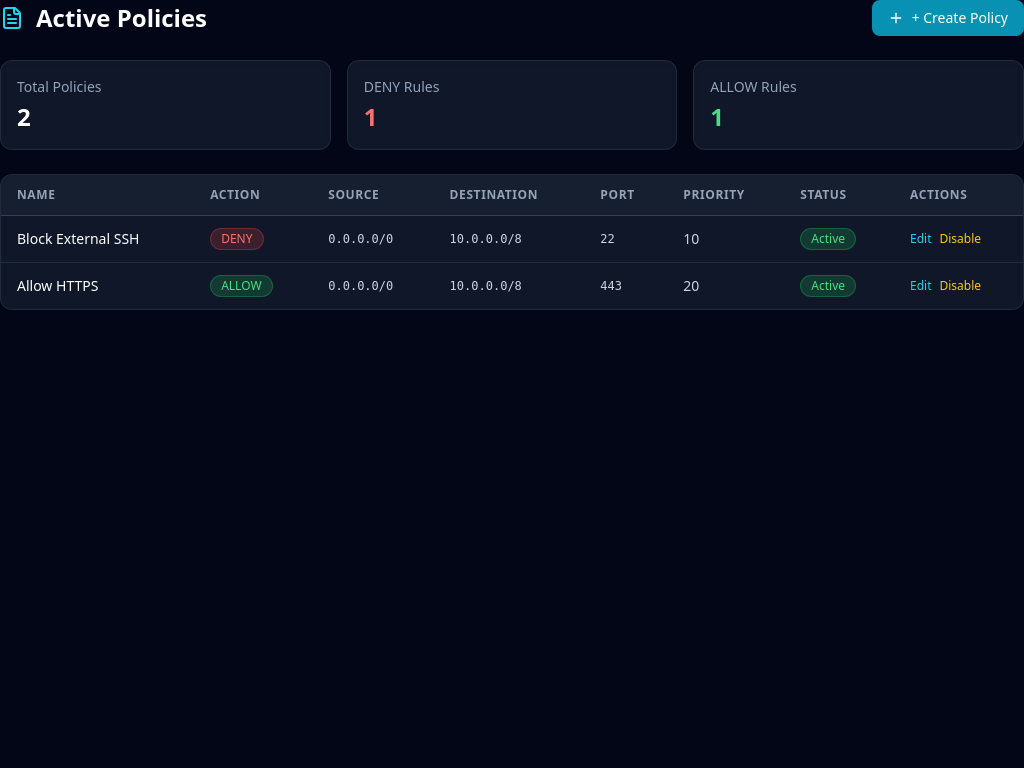
Policies › shows validation message when name is empty on submit
Check: the text "Block External SSH" is shown, box left=1, top=216, right=194, bottom=262
Click the button "+ Create Policy". click: (948, 18)
box: left=872, top=0, right=1023, bottom=36
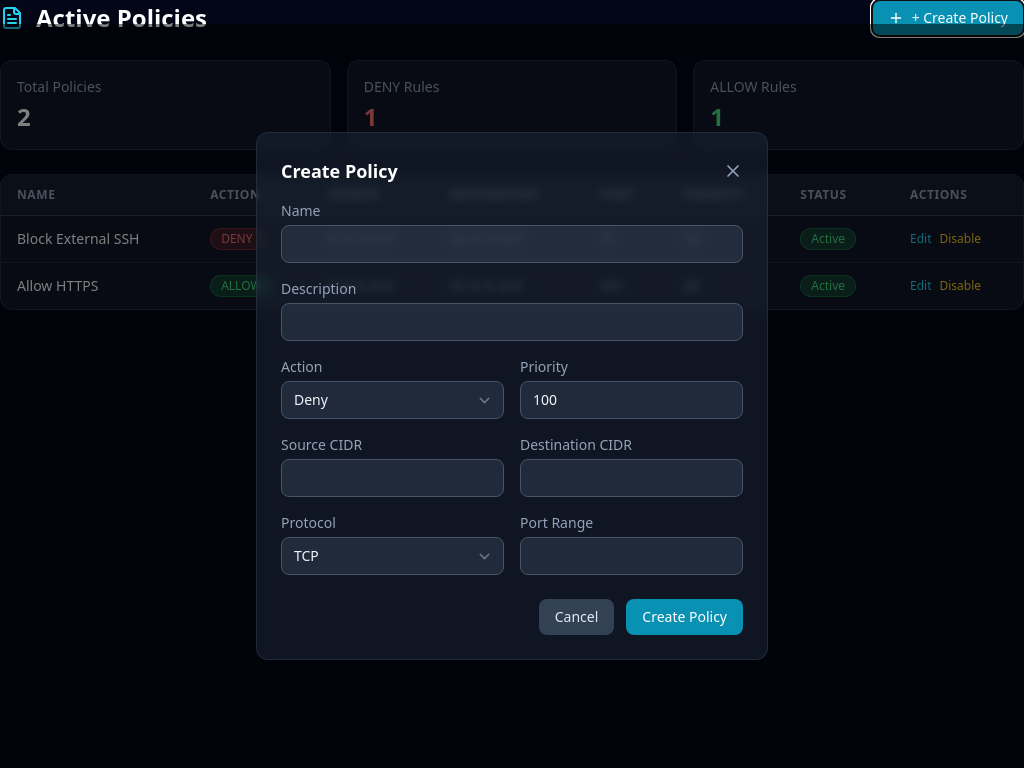
Click the button "Create Policy". click: (685, 617)
box: left=626, top=599, right=743, bottom=635
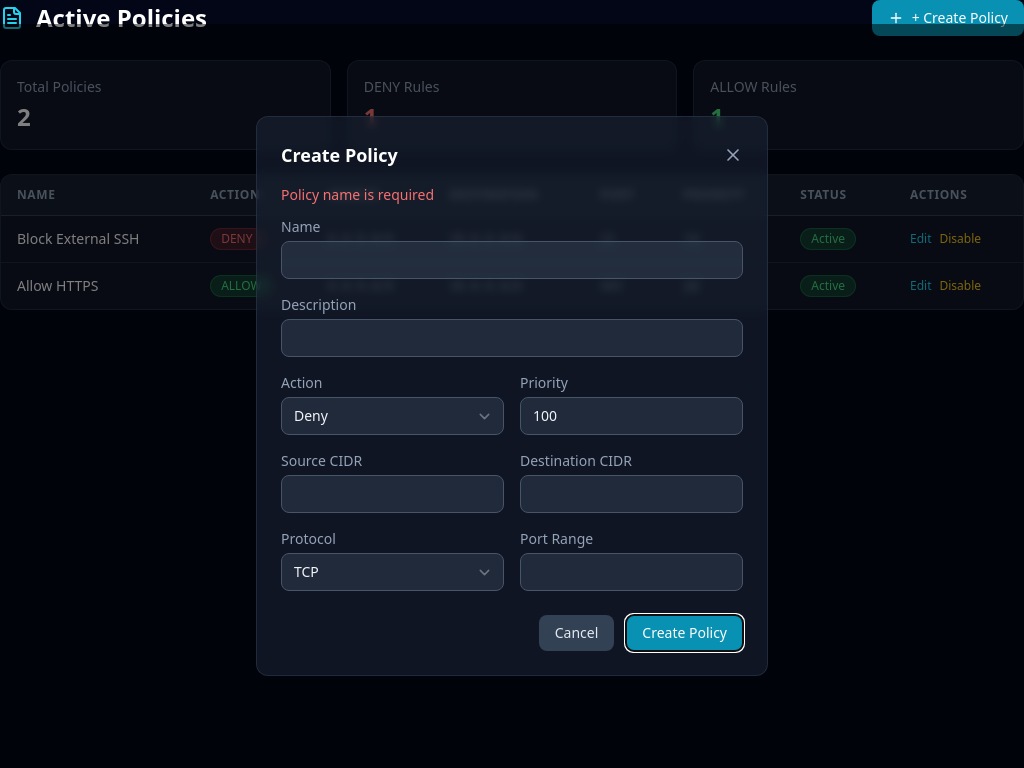
Check: the text "Policy name is required" is shown, box left=281, top=185, right=434, bottom=204
